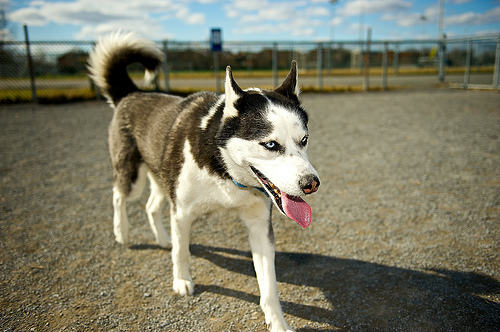dog: (85, 32, 322, 331)
